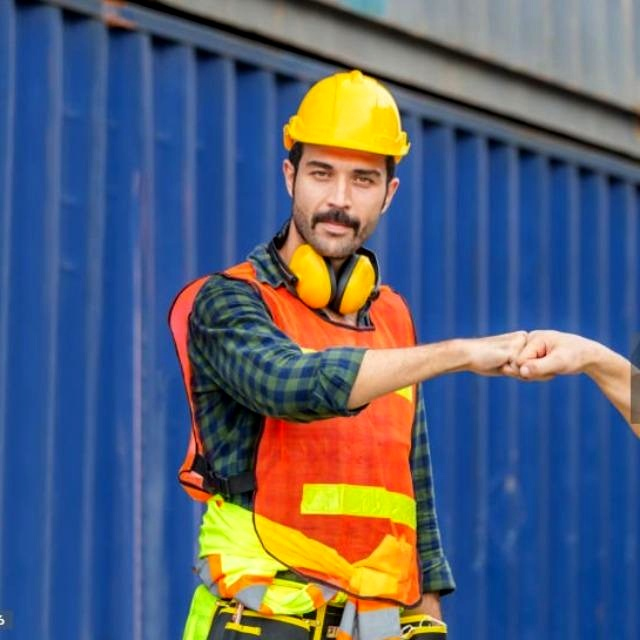Con_Casco: (280, 67, 412, 257)
Con_Chaleco: (169, 258, 421, 610)
